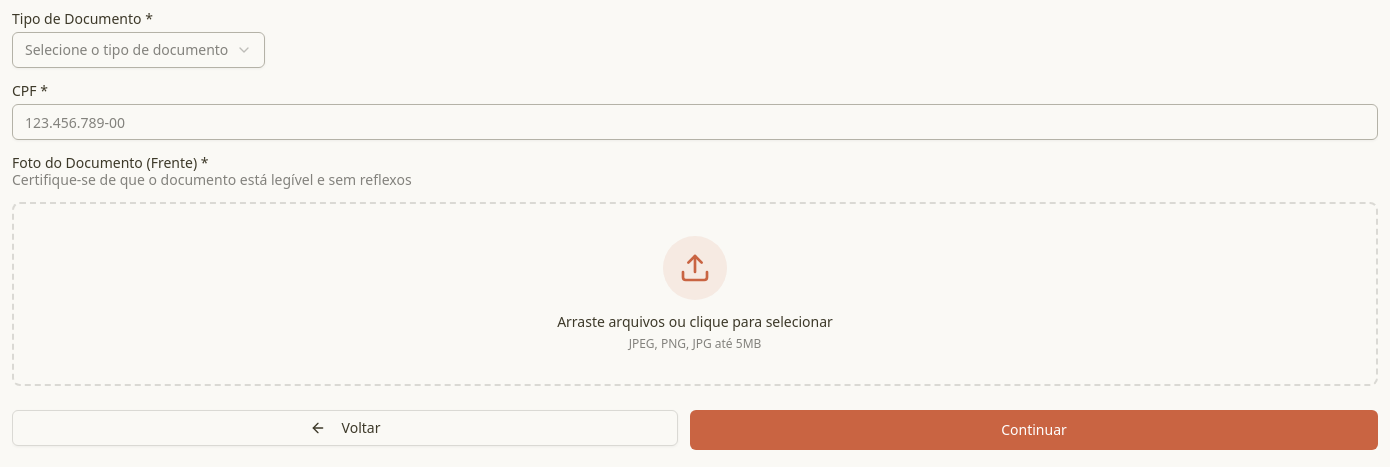
Scenario: IdentityStep › should format CPF as user types
Type "11144477735" into the field labelled "CPF *" at (695, 122), box [12, 104, 1378, 140]
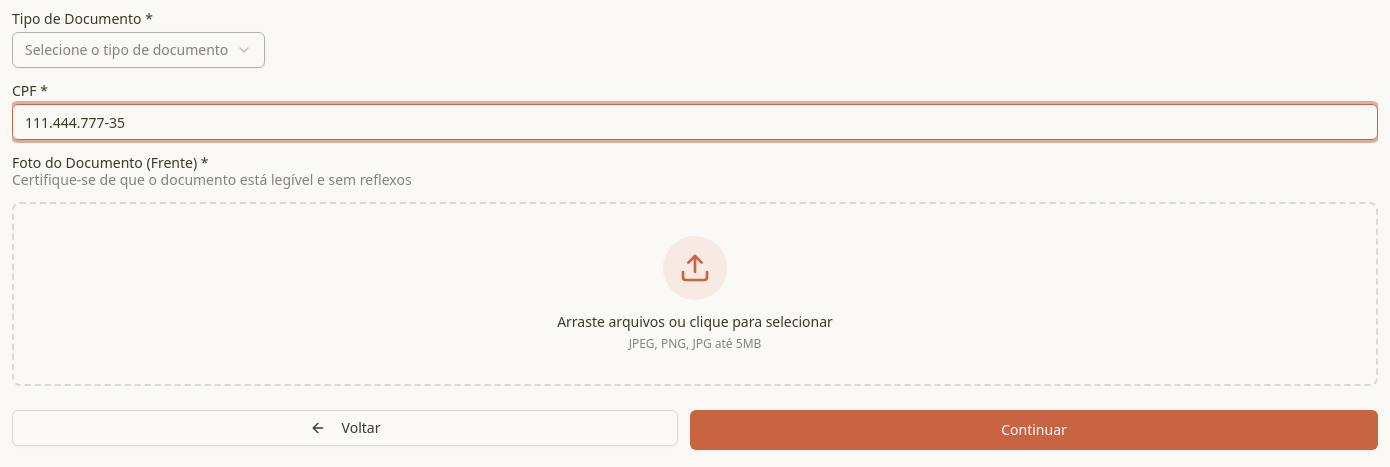
Now the field labelled "CPF *" holds "111.444.777-35", box [12, 104, 1378, 140]
